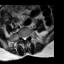CCS_severe_stenosis: (24, 34, 25, 42)
LFS_stenosis: (27, 33, 29, 38)
LLS_stenosis: (25, 34, 27, 40)
RFS_normal: (20, 33, 22, 39)
RLS_normal: (22, 34, 24, 40)
